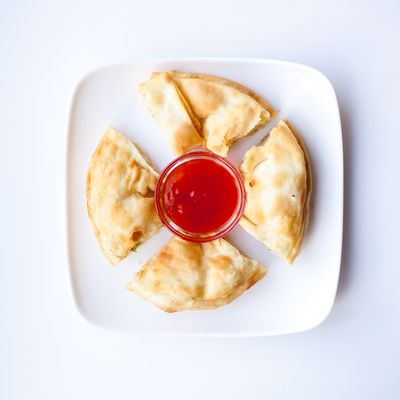pasta: (238, 118, 313, 267)
pizza: (154, 148, 247, 244)
sushi: (154, 150, 248, 245)
